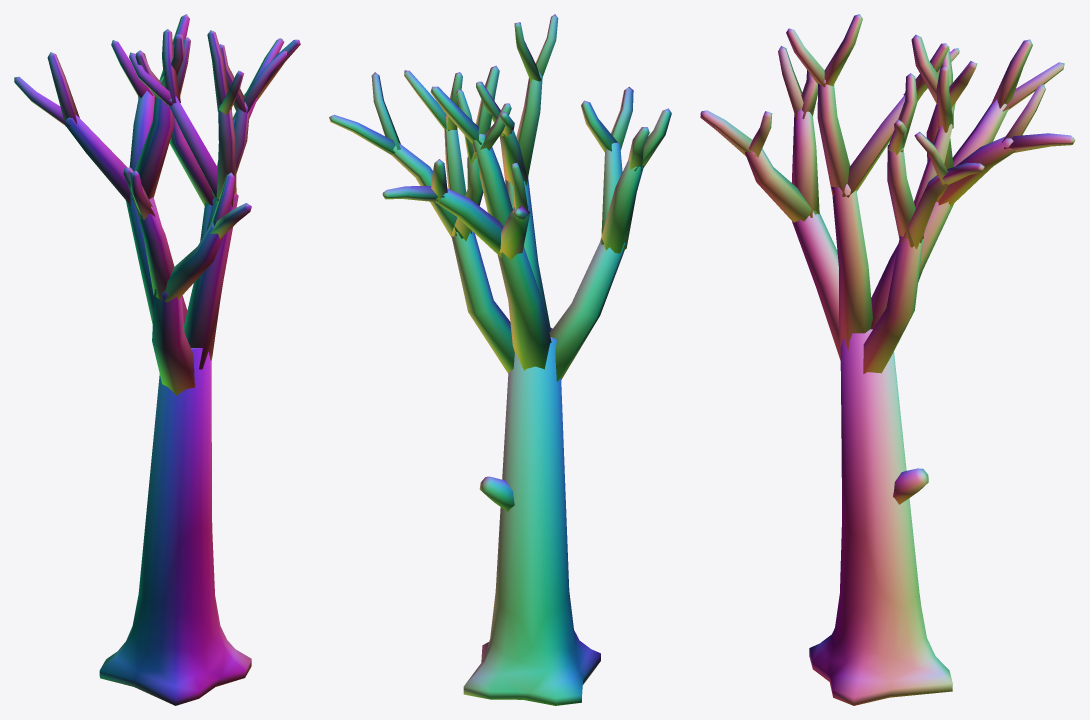
File: SM_Foliage_March_DeadOak_C_LOD1.fbx
3 views of the same model, side by side, from view 1: azimuth 30°, elevation 25°; view 2: azimuth 150°, elevation 25°; view 3: azimuth 270°, elevation 25° (orthographic). The views are drawn at different scales.
Visible parts, largest first — view 1: SM_Foliage_March_DeadOak_C_LOD1; view 2: SM_Foliage_March_DeadOak_C_LOD1; view 3: SM_Foliage_March_DeadOak_C_LOD1.
Part boxes in pixels (left/top/right/bottom): SM_Foliage_March_DeadOak_C_LOD1: left=14, top=14, right=300, bottom=705; SM_Foliage_March_DeadOak_C_LOD1: left=329, top=14, right=671, bottom=705; SM_Foliage_March_DeadOak_C_LOD1: left=700, top=14, right=1075, bottom=705.
Bounding box in the file's own units: 1.73 × 4.31 × 2.18.
